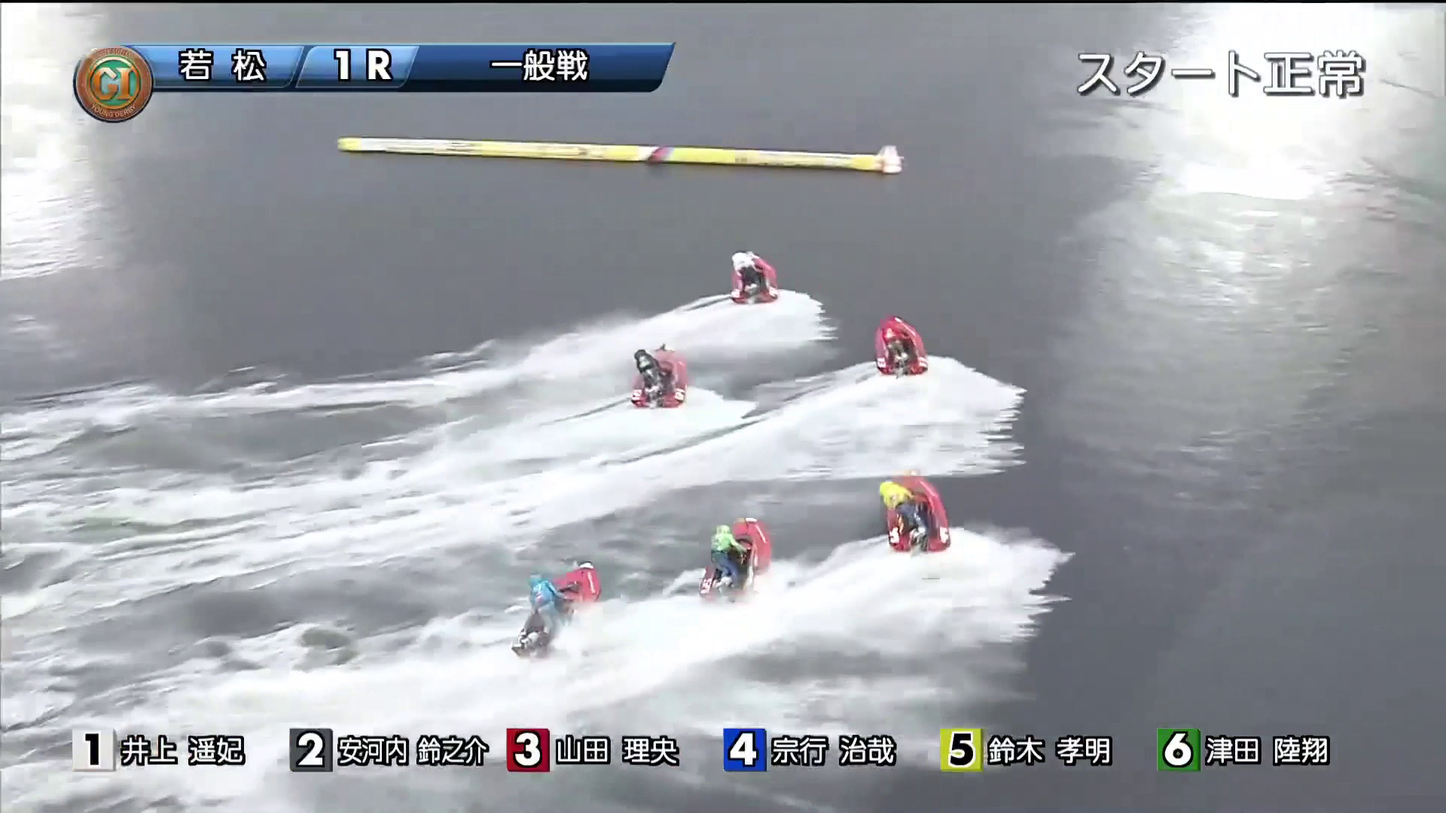１号艇: (708, 252, 778, 305)
２号艇: (604, 357, 733, 418)
３号艇: (844, 336, 942, 383)
４号艇: (655, 539, 788, 605)
５号艇: (463, 593, 587, 648)
６号艇: (869, 490, 969, 546)
